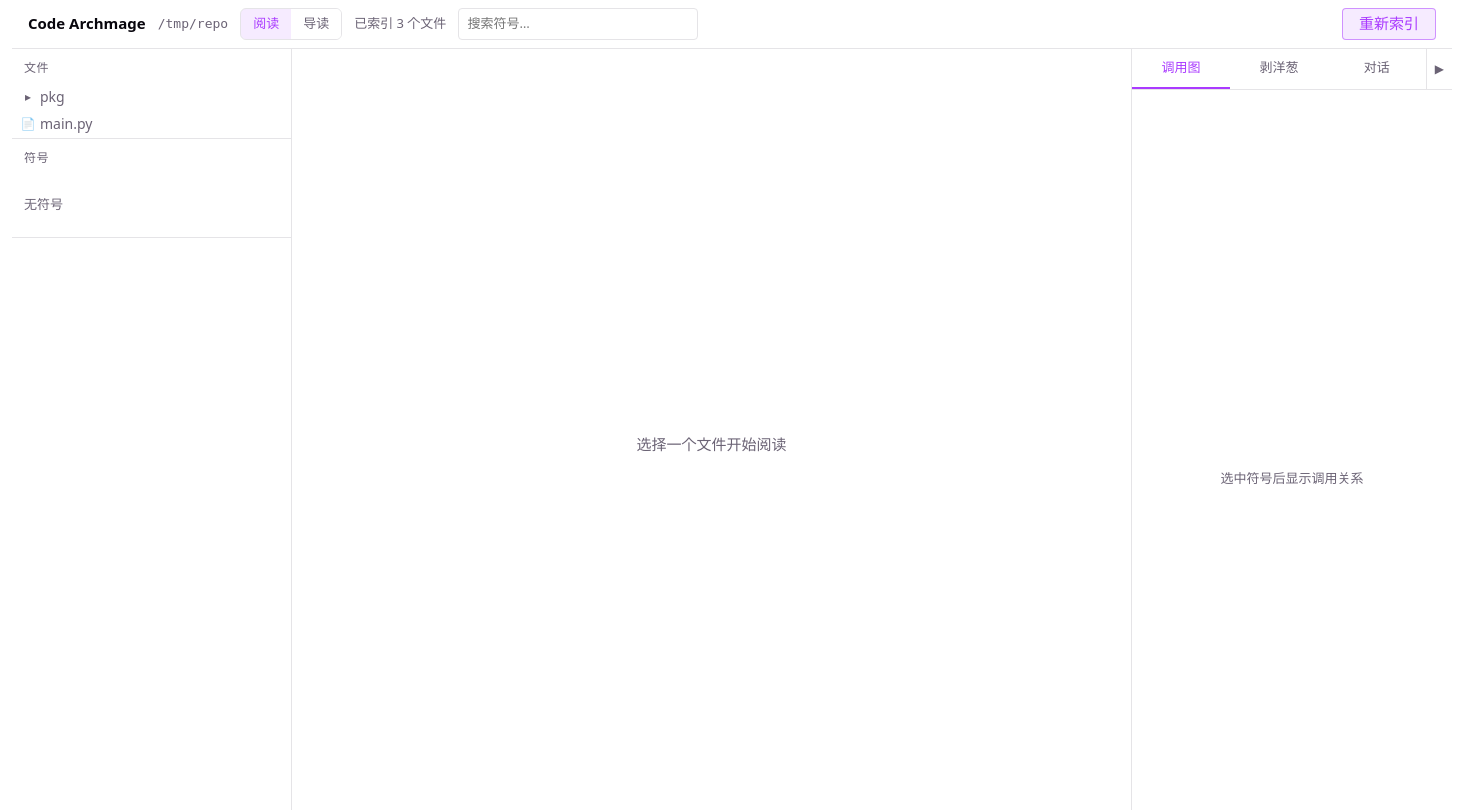
Scenario: App — 阅读模式导读入口（Stage 7b） › 打开的文件有导读 → 显示「查看导读」，点击切到导读模式
What coordinates should you click on to do the following:
click the text "main.py"
I would click on:
 (66, 124)
Its box is [40, 113, 92, 135].
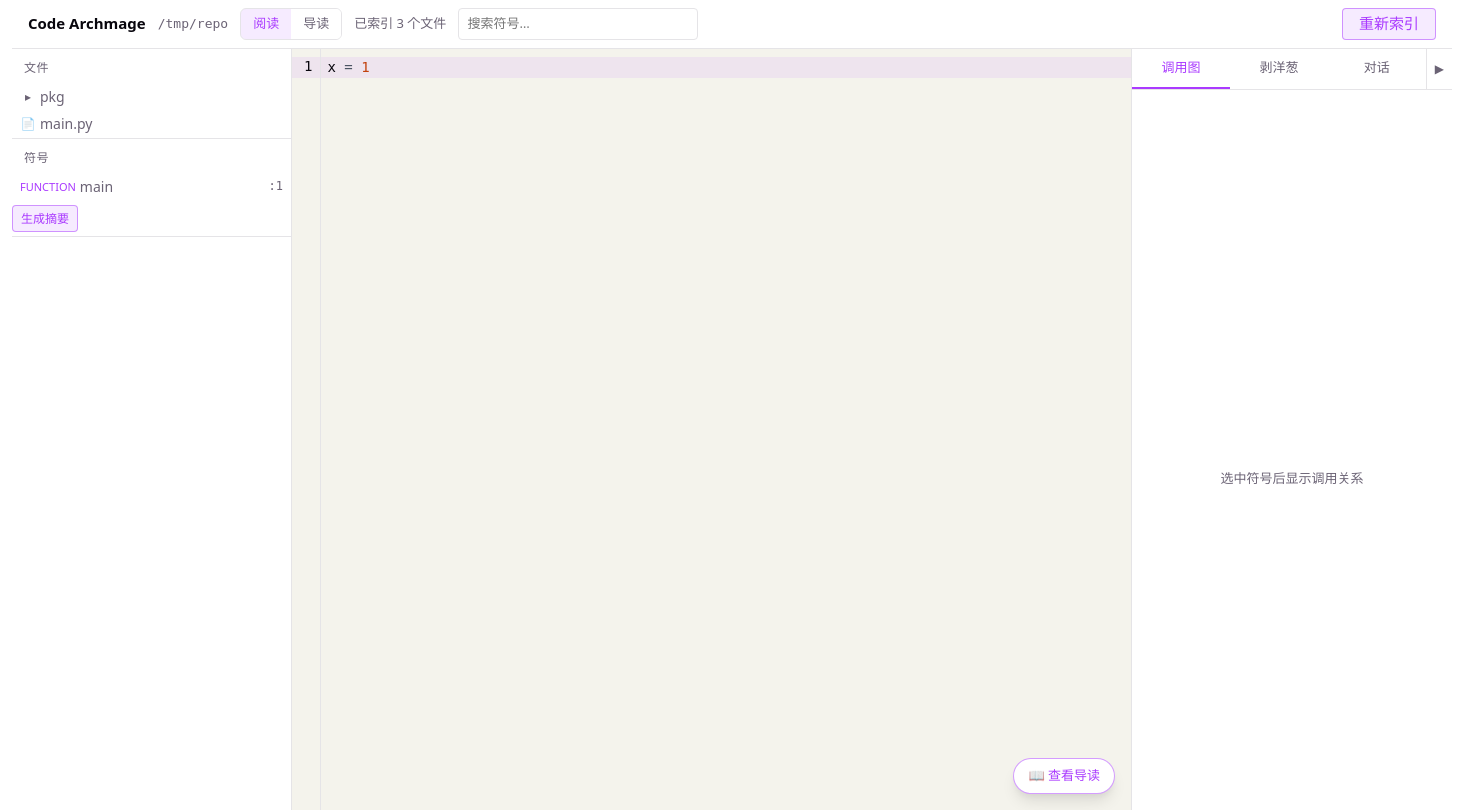
Expected: the field with class "cm-content" is shown, [321, 57, 1131, 78]
Note: 有导读 → 入口按钮出现
What coordinates should you click on to do the following:
click the button "📖 查看导读"
I would click on:
 (1064, 776)
Its box is [1013, 758, 1115, 794].
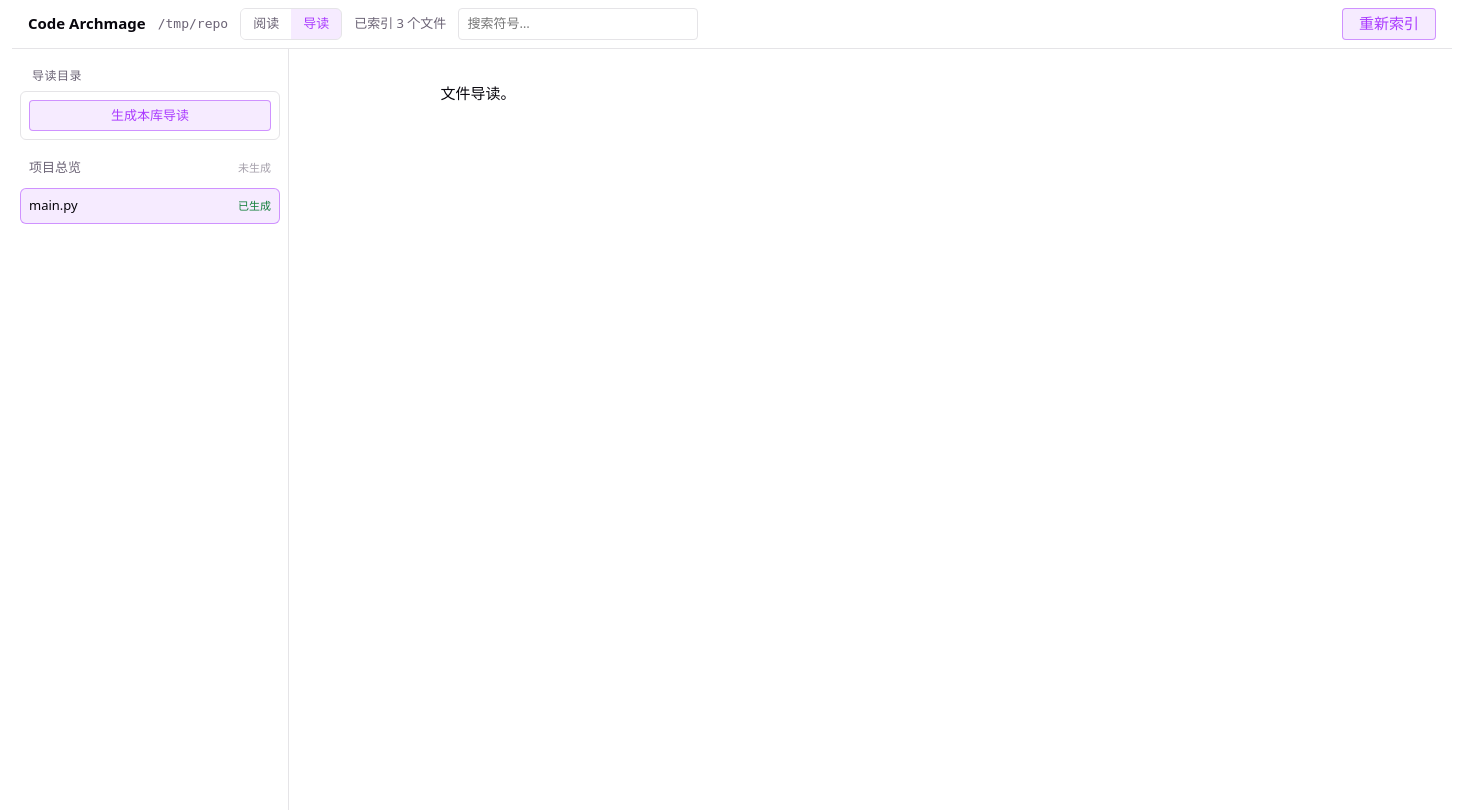
Expected: the heading "导读目录" is shown, [32, 67, 82, 84]
